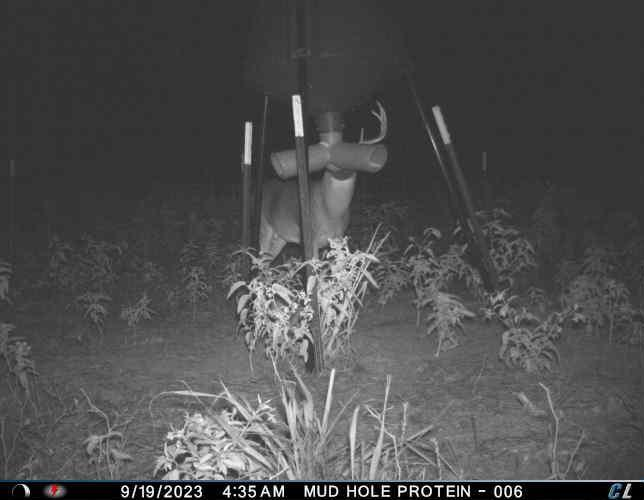Deer: (258, 101, 390, 268)
